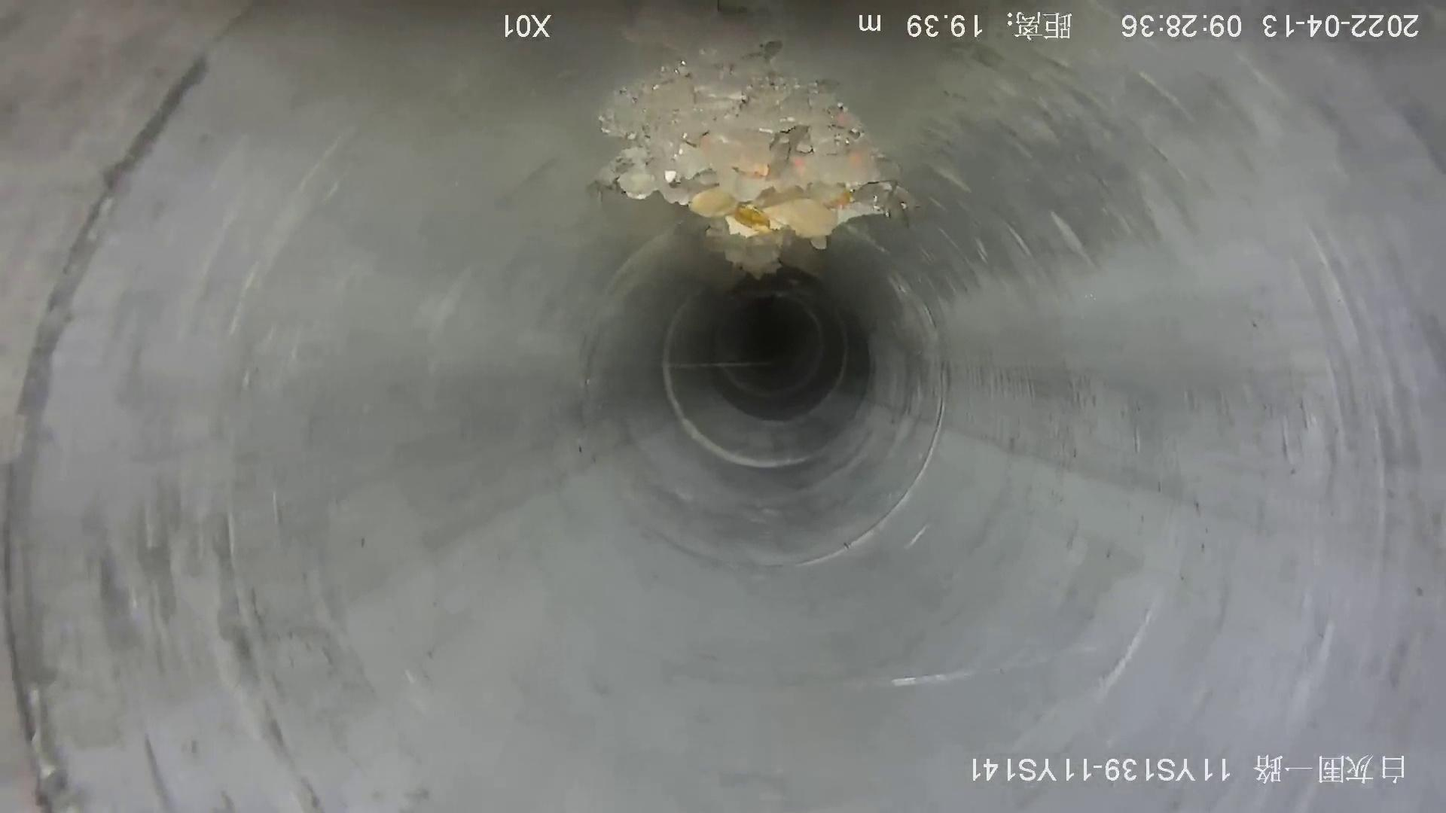CJ: (599, 8, 905, 277)
CKTJ: (766, 220, 953, 573), (657, 287, 855, 472)
